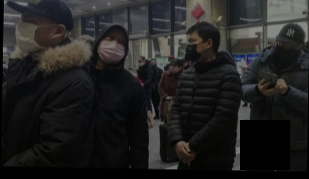with_mask: (13, 17, 52, 54), (95, 35, 126, 65), (273, 42, 299, 64), (182, 36, 205, 60), (136, 56, 144, 68), (130, 69, 138, 78), (148, 60, 156, 68)
without_mask: (168, 64, 178, 75)
